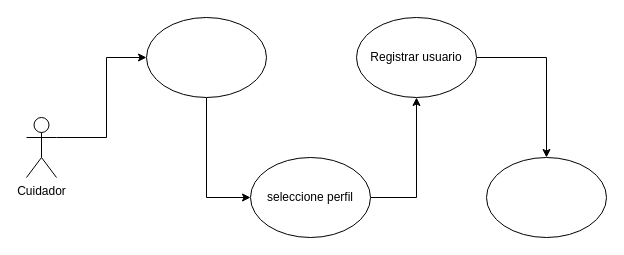
This 624x255 diagram has some shape labels left out. The shapes that lost their labels are listed below. From the top down, each one's box as (x1, y1, x2, y2) in pixels, then its label:
(146, 16, 266, 98): Entrar a la app
(486, 156, 606, 238): Inicio sesión
